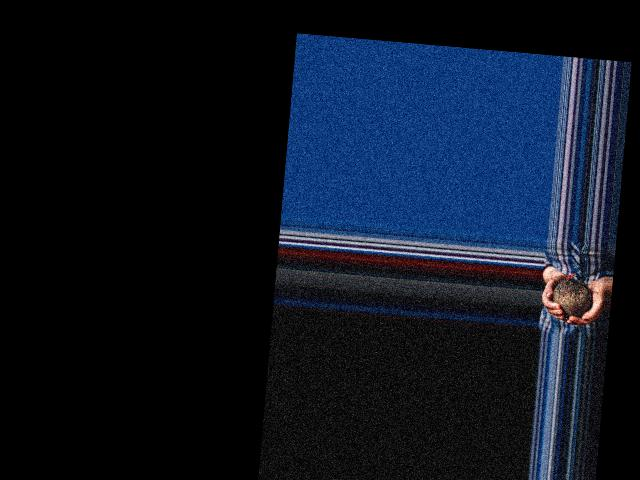beet: (551, 271, 594, 318)
